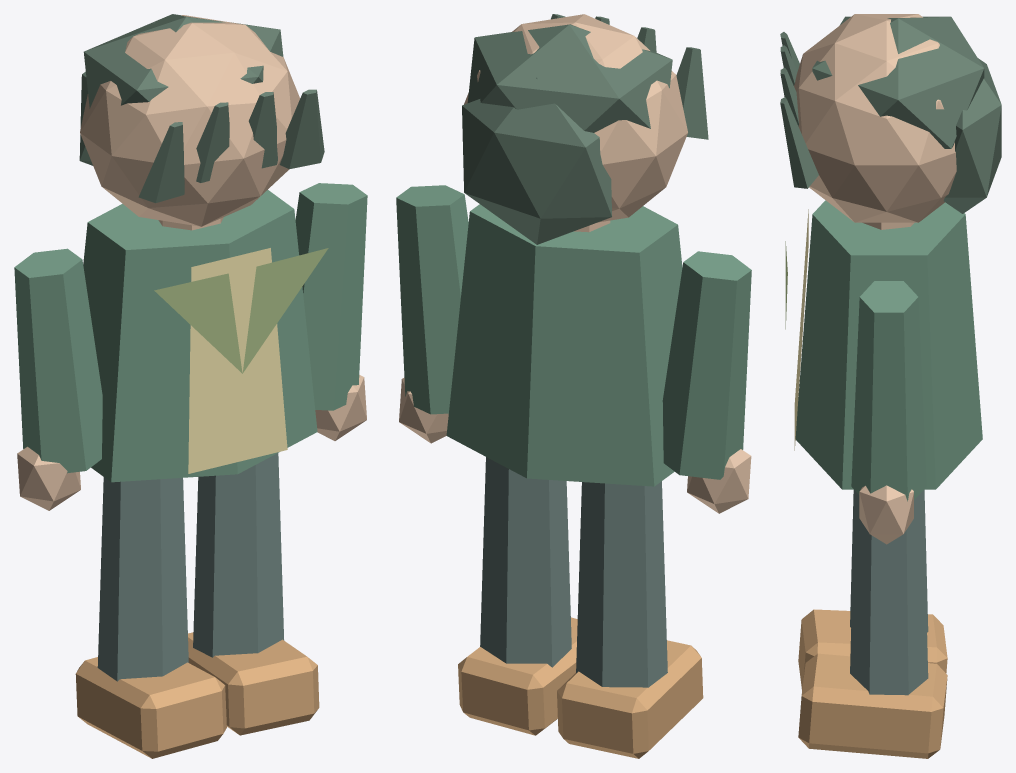
File: echo_world_faceless_reference.glb
3 views of the same model, side by side, from view 1: azimuth 30°, elevation 25°; view 2: azimuth 150°, elevation 25°; view 3: azimuth 270°, elevation 25° (orthographic).
Parts seen in each view (by area): view 1: GEO_Jacket_Torso, GEO_Skin_Head, GEO_PantsLeg_L, GEO_Jacket_Arm_L, GEO_PantsLeg_R, GEO_Shirt_Front, GEO_Jacket_Arm_R, GEO_Shoe_L, GEO_Shoe_R, GEO_Jacket_Lapels, GEO_Hair_Crown, GEO_Skin_Hand_L (+5 smaller); view 2: GEO_Jacket_Torso, GEO_PantsLeg_L, GEO_Jacket_Arm_L, GEO_Hair_Back, GEO_PantsLeg_R, GEO_Hair_Crown, GEO_Jacket_Arm_R, GEO_Skin_Head, GEO_Shoe_L, GEO_Shoe_R, GEO_Skin_Hand_L, GEO_Hair_FrontLock_01 (+1 smaller); view 3: GEO_Jacket_Torso, GEO_Skin_Head, GEO_Jacket_Arm_R, GEO_PantsLeg_R, GEO_Shoe_R, GEO_Hair_Crown, GEO_Hair_Back, GEO_Shoe_L, GEO_Skin_Hand_R, GEO_Hair_FrontLock_04, GEO_Shirt_Front, GEO_PantsLeg_L (+1 smaller).
Part boxes in pixels (x1,y1,x2,y2): GEO_Jacket_Torso: [83, 190, 317, 482]; GEO_Skin_Head: [80, 15, 299, 226]; GEO_PantsLeg_L: [97, 477, 188, 681]; GEO_Jacket_Arm_L: [14, 248, 102, 473]; GEO_PantsLeg_R: [193, 453, 284, 657]; GEO_Shirt_Front: [188, 248, 287, 473]; GEO_Jacket_Arm_R: [295, 183, 367, 410]; GEO_Shoe_L: [75, 657, 226, 758]; GEO_Shoe_R: [188, 632, 319, 735]; GEO_Jacket_Lapels: [154, 248, 328, 373]; GEO_Hair_Crown: [83, 14, 283, 108]; GEO_Skin_Hand_L: [17, 446, 80, 510]; GEO_Jacket_Torso: [446, 204, 682, 486]; GEO_PantsLeg_L: [576, 481, 667, 687]; GEO_Jacket_Arm_L: [662, 251, 751, 479]; GEO_Hair_Back: [462, 77, 612, 244]; GEO_PantsLeg_R: [480, 457, 571, 667]; GEO_Hair_Crown: [467, 24, 672, 132]; GEO_Jacket_Arm_R: [396, 185, 468, 414]; GEO_Skin_Head: [464, 14, 687, 222]; GEO_Shoe_L: [557, 640, 703, 758]; GEO_Shoe_R: [458, 617, 577, 735]; GEO_Skin_Hand_L: [687, 449, 751, 513]; GEO_Hair_FrontLock_01: [676, 47, 708, 139]; GEO_Jacket_Torso: [795, 200, 982, 489]; GEO_Skin_Head: [794, 14, 956, 222]; GEO_Jacket_Arm_R: [851, 281, 926, 501]; GEO_PantsLeg_R: [850, 490, 928, 695]; GEO_Shoe_R: [798, 653, 947, 758]; GEO_Hair_Crown: [812, 16, 984, 148]; GEO_Hair_Back: [943, 47, 1001, 213]; GEO_Shoe_L: [798, 609, 947, 690]; GEO_Skin_Hand_R: [859, 485, 913, 544]; GEO_Hair_FrontLock_04: [780, 97, 818, 188]; GEO_Shirt_Front: [794, 209, 808, 450]; GEO_PantsLeg_L: [850, 489, 928, 632].
Bounding box in the file's own units: 0.8667 × 1.68 × 0.4818.
